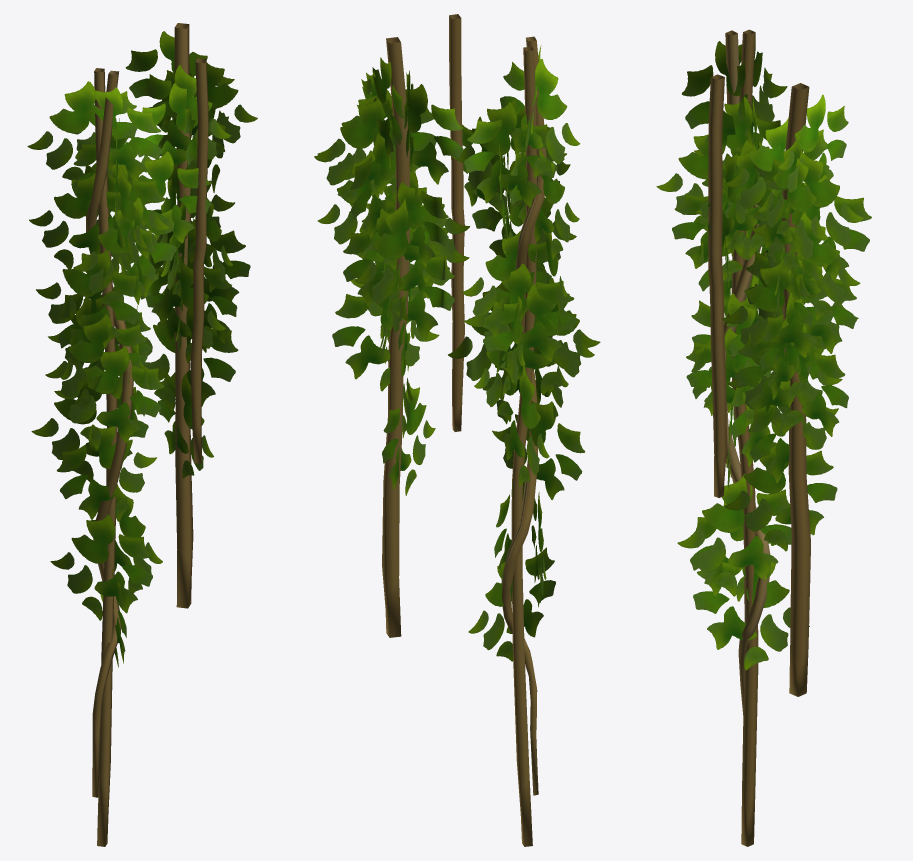
Rendered from P_IvyCoastalVine03.obj.
3 views of the same model, side by side, from view 1: azimuth 30°, elevation 25°; view 2: azimuth 150°, elevation 25°; view 3: azimuth 270°, elevation 25° (orthographic). The views are drawn at different scales.
Bounding box in the file's own units: 2.7 × 8.14 × 2.29.
